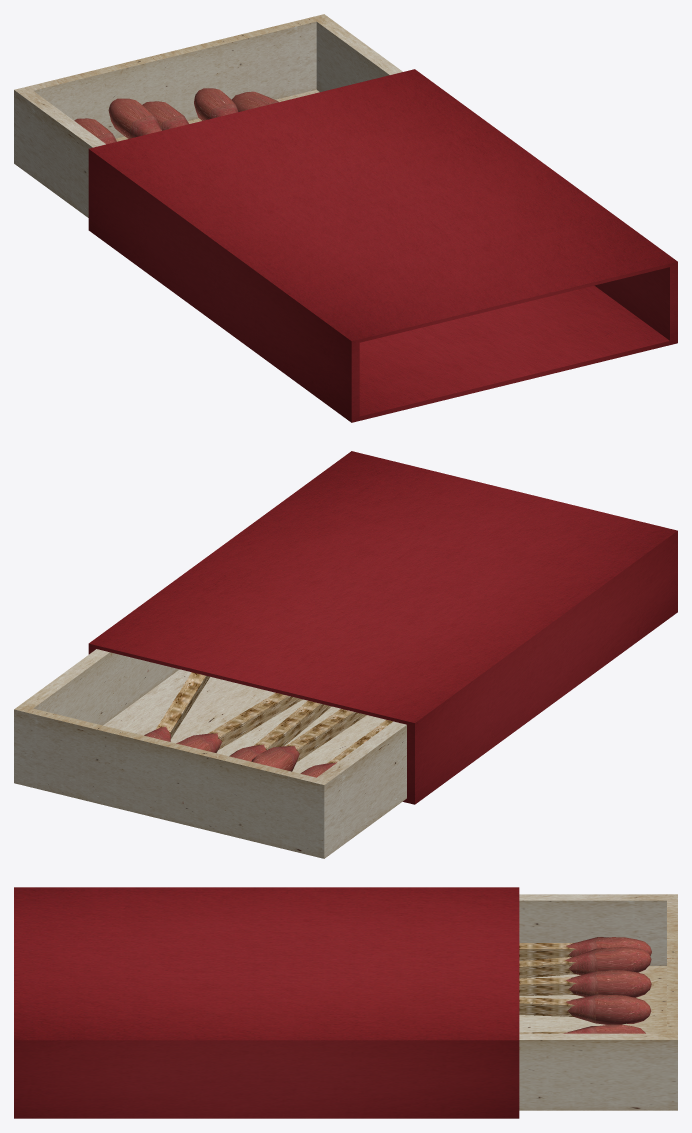
Rendered from Matchbox with matchs.FBX.
3 renders of one model, top to bottom at view 1: azimuth 30°, elevation 25°; view 2: azimuth 150°, elevation 25°; view 3: azimuth 270°, elevation 25°, orthographic. The views are drawn at different scales.
Parts seen in each view (by area): view 1: Box002, Box003, Capsule003, Capsule005, Capsule004; view 2: Box002, Box003, Box008, Box006, Box007, Box009, Capsule003; view 3: Box002, Box003, Capsule005, Capsule004, Capsule003, Box006, Box007, Box008, Capsule002, Box005, Capsule006.
Part boxes in pixels (x1,y1,x2,y2): Box002: [88, 69, 677, 422]; Box003: [14, 14, 402, 217]; Capsule003: [108, 98, 161, 138]; Capsule005: [194, 88, 238, 120]; Capsule004: [142, 101, 188, 130]; Box002: [88, 451, 677, 804]; Box003: [14, 649, 406, 858]; Box008: [208, 693, 302, 749]; Box006: [285, 708, 366, 762]; Box007: [254, 700, 331, 749]; Box009: [155, 672, 209, 738]; Capsule003: [251, 746, 299, 771]; Box002: [14, 887, 519, 1118]; Box003: [519, 894, 677, 1110]; Capsule005: [565, 994, 651, 1024]; Capsule004: [565, 970, 651, 997]; Capsule003: [565, 947, 651, 974]; Box006: [519, 956, 575, 978]; Box007: [519, 977, 576, 995]; Box008: [519, 997, 575, 1016]; Capsule002: [566, 937, 651, 956]; Box005: [519, 943, 576, 960]; Capsule006: [564, 1024, 645, 1033].
Size of the model in its own units: 19.89 by 4.75 by 36.48.
4 materials, 4 textured.
